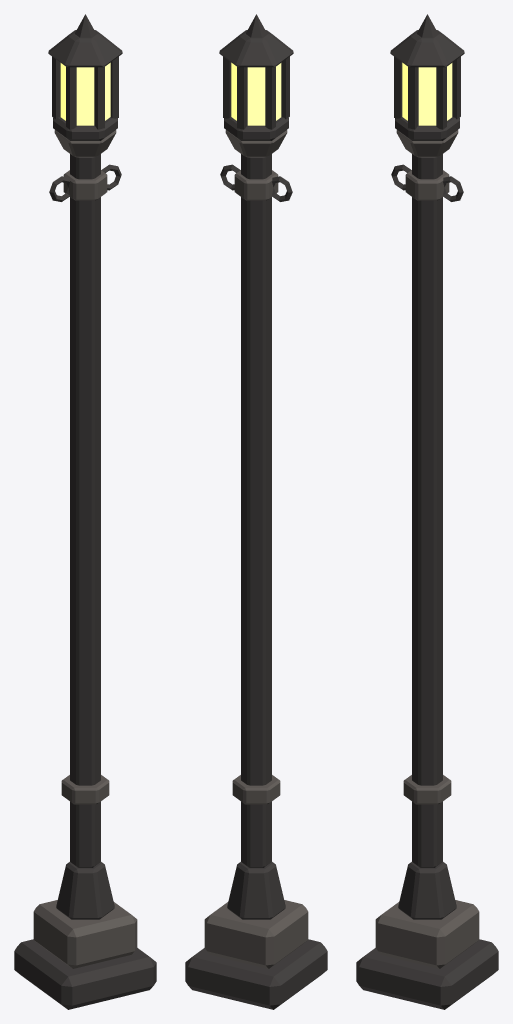
The model's file is string_light_pole.glb.
The picture shows the model from 3 angles, left to right: view 1: azimuth 30°, elevation 25°; view 2: azimuth 150°, elevation 25°; view 3: azimuth 330°, elevation 25°; orthographic projection.
Parts seen in each view (by area): view 1: string_light_pole; view 2: string_light_pole; view 3: string_light_pole.
Part boxes in pixels (<box>): string_light_pole: <box>14,14,156,1009</box>; string_light_pole: <box>185,14,327,1009</box>; string_light_pole: <box>356,14,498,1009</box>.
Bounding box in the file's own units: 0.3 × 2.91 × 0.3.
